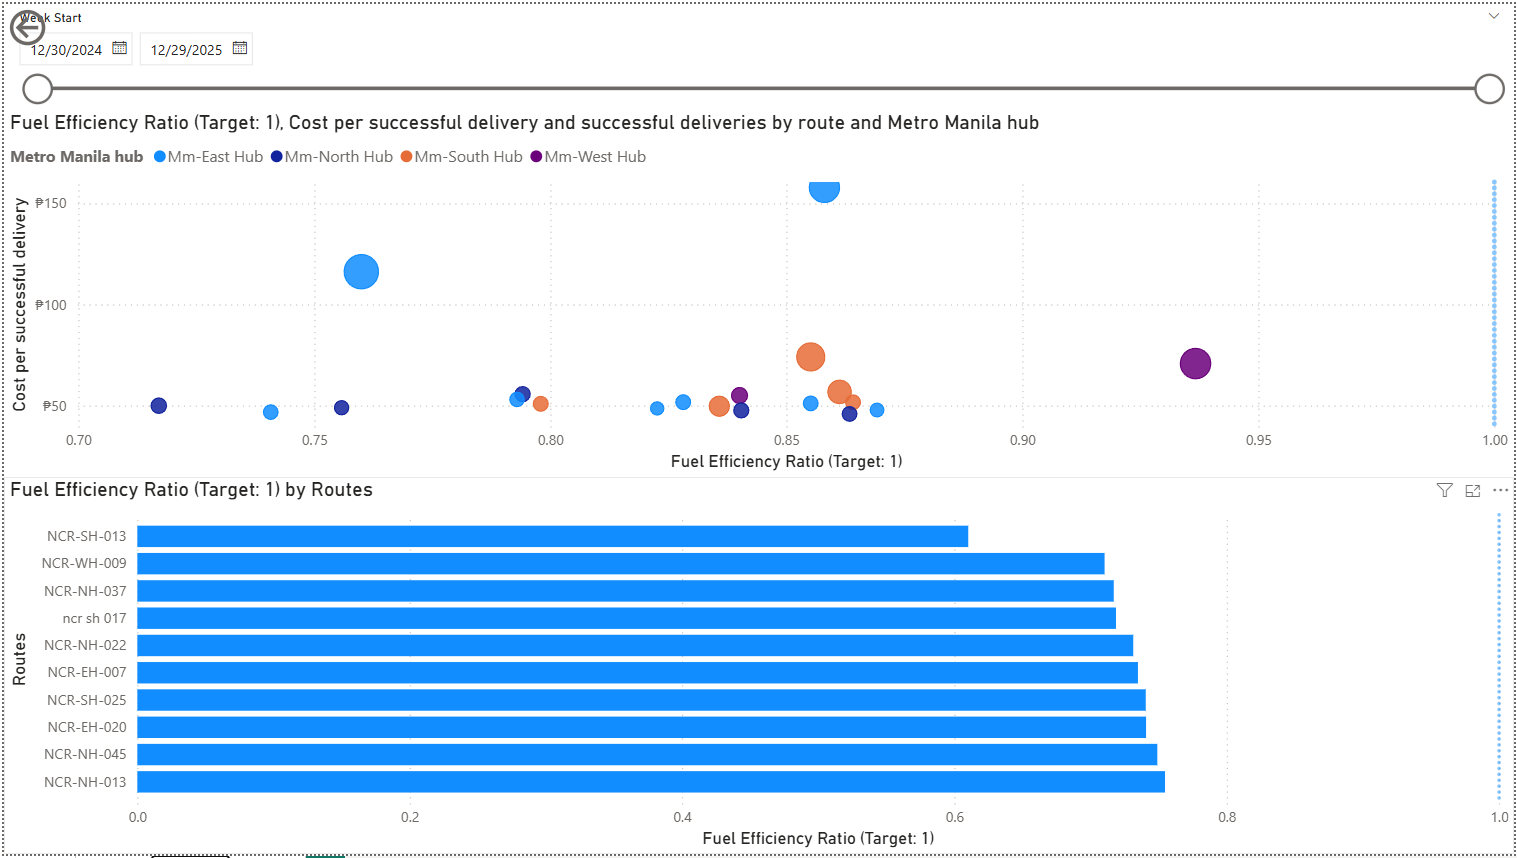

The dashboard page shown, as its layout file describes it:
{"tool":"powerbi","page":{"name":"Page 3","canvas":[1280,720],"ordinal":2},"visuals":[{"type":"slicer","fields":{"Values":["kpi_table_powerbi_filled_plausible_final.Week Start"]},"box":[0,0,1280,90],"z":0},{"type":"actionButton","box":[0,0,100,40],"z":1000},{"type":"scatterChart","fields":{"X":["kpi_table_powerbi_filled_plausible_final.KPI4 Fuel Efficiency vs Standard"],"Y":["kpi_table_powerbi_filled_plausible_final.KPI 1 Cost per Successful Delivery (PHP)"],"Size":["Sum(kpi_table_powerbi_filled_plausible_final.total_cost_php)"],"Series":["kpi_table_powerbi_filled_plausible_final.hub_name"],"Category":["kpi_table_powerbi_filled_plausible_final.route_id"]},"box":[0,90,1280,310.9],"z":2000},{"type":"clusteredBarChart","fields":{"Category":["kpi_table_powerbi_filled_plausible_final.route_id"],"Y":["kpi_table_powerbi_filled_plausible_final.KPI4 Fuel Efficiency vs Standard"]},"box":[0,401,1280,319],"z":3000}]}

Visuals, with their boxes in screenshot pixels (x1, y1, x2, y2), scaled from the page's 1280x720 canvas onto the 1517x858 screenshot:
slicer - kpi_table_powerbi_filled_plausible_final.Week Start: detection(0, 0, 1516, 107)
actionButton: detection(0, 0, 119, 48)
scatterChart - kpi_table_powerbi_filled_plausible_final.KPI4 Fuel Efficiency vs Standard x kpi_table_powerbi_filled_plausible_final.KPI 1 Cost per Successful Delivery (PHP): detection(0, 107, 1516, 478)
clusteredBarChart - kpi_table_powerbi_filled_plausible_final.route_id x kpi_table_powerbi_filled_plausible_final.KPI4 Fuel Efficiency vs Standard: detection(0, 478, 1516, 857)
